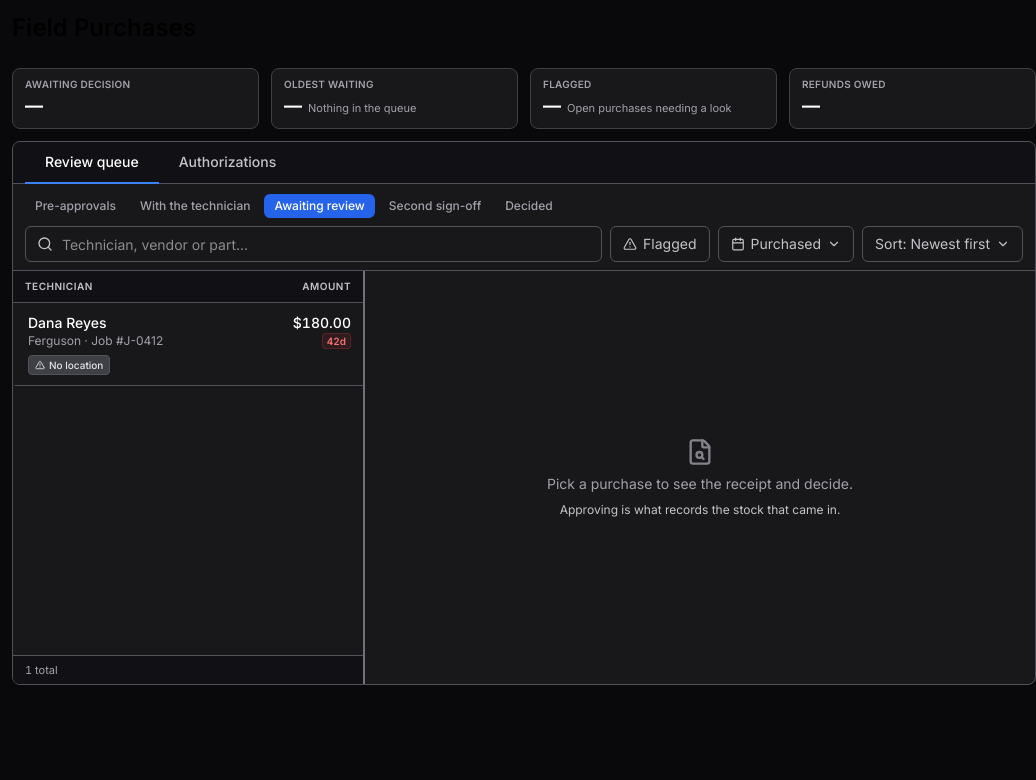
Test: review detail › leads with the evidence: receipt, reason, flag messages
The width and height of the screenshot is (1036, 780).
Step 1. Click the text "Dana Reyes" → (67,323), box top-left (28, 313), bottom-right (106, 333)
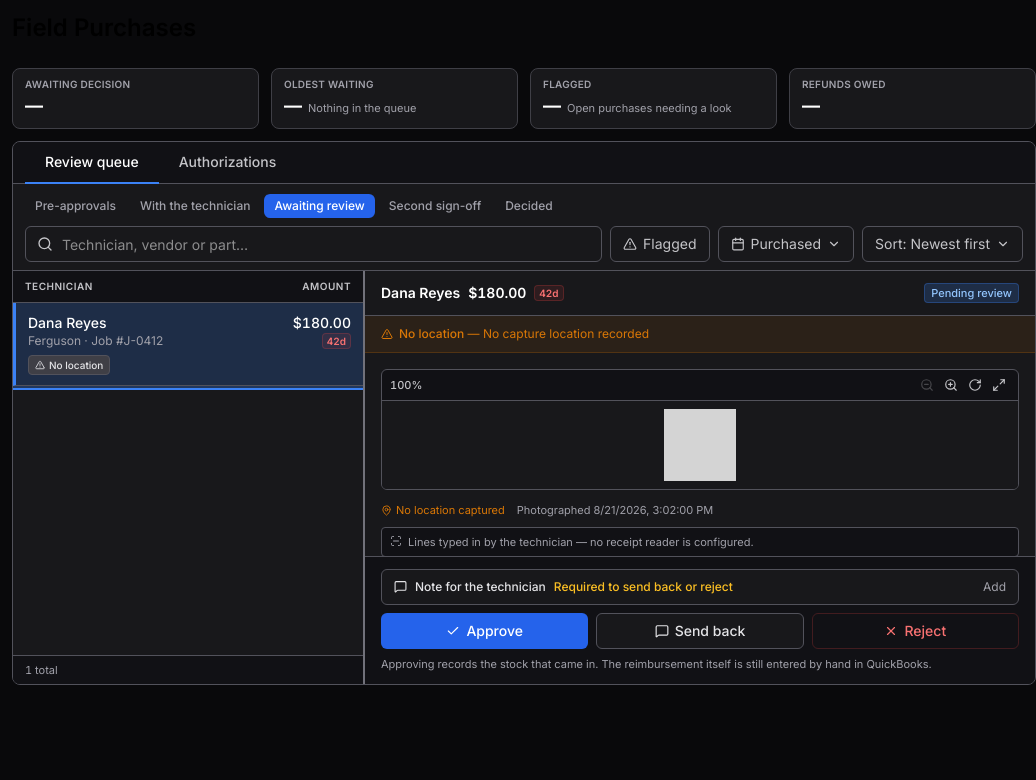
Result: the text "No location — No capture location recorded" is shown at top-left (399, 326), bottom-right (649, 342)
